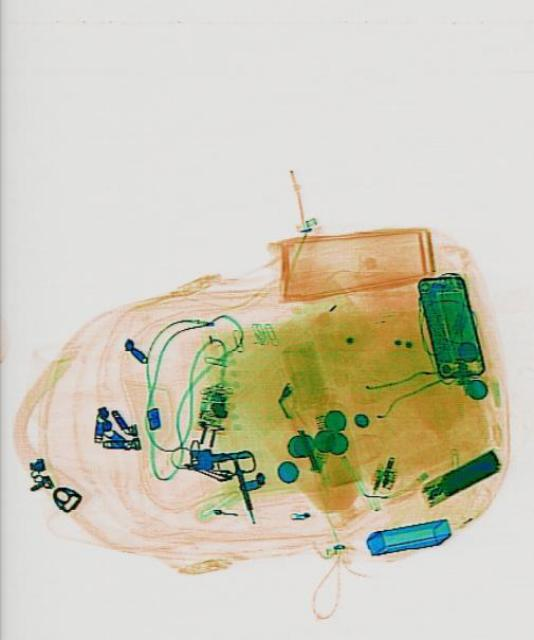Scissors: (211, 444, 269, 530)
